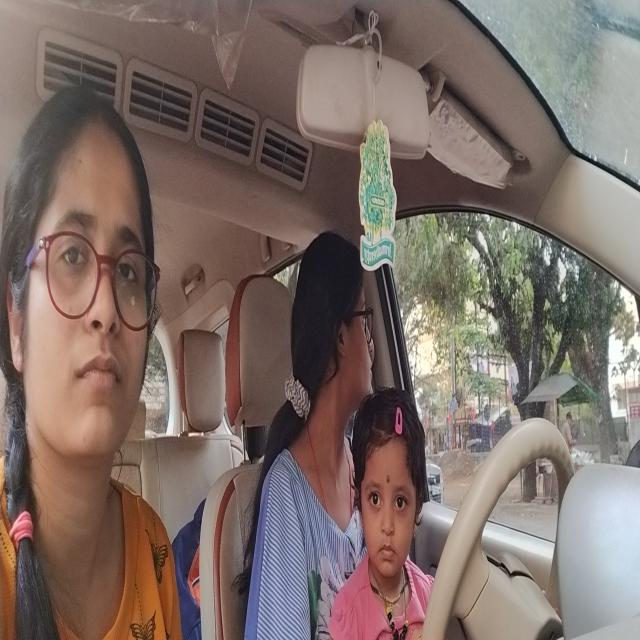child: (354, 381, 431, 591)
person: (0, 77, 163, 499), (288, 222, 378, 428)
